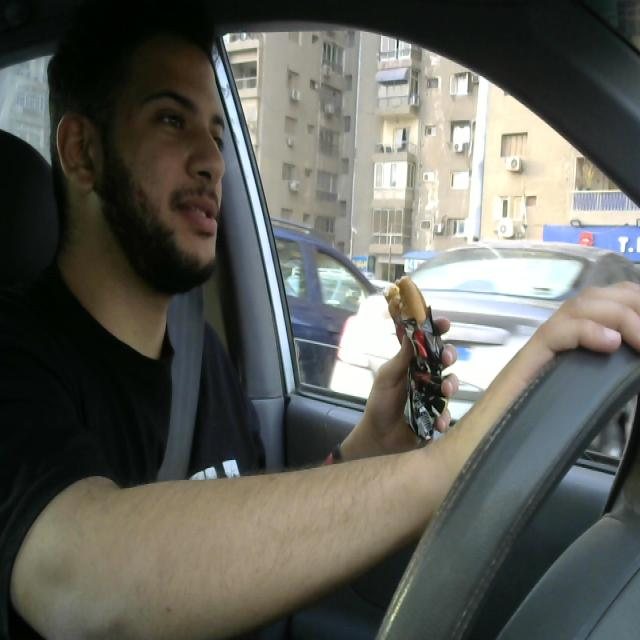eating: (382, 278, 453, 442)
